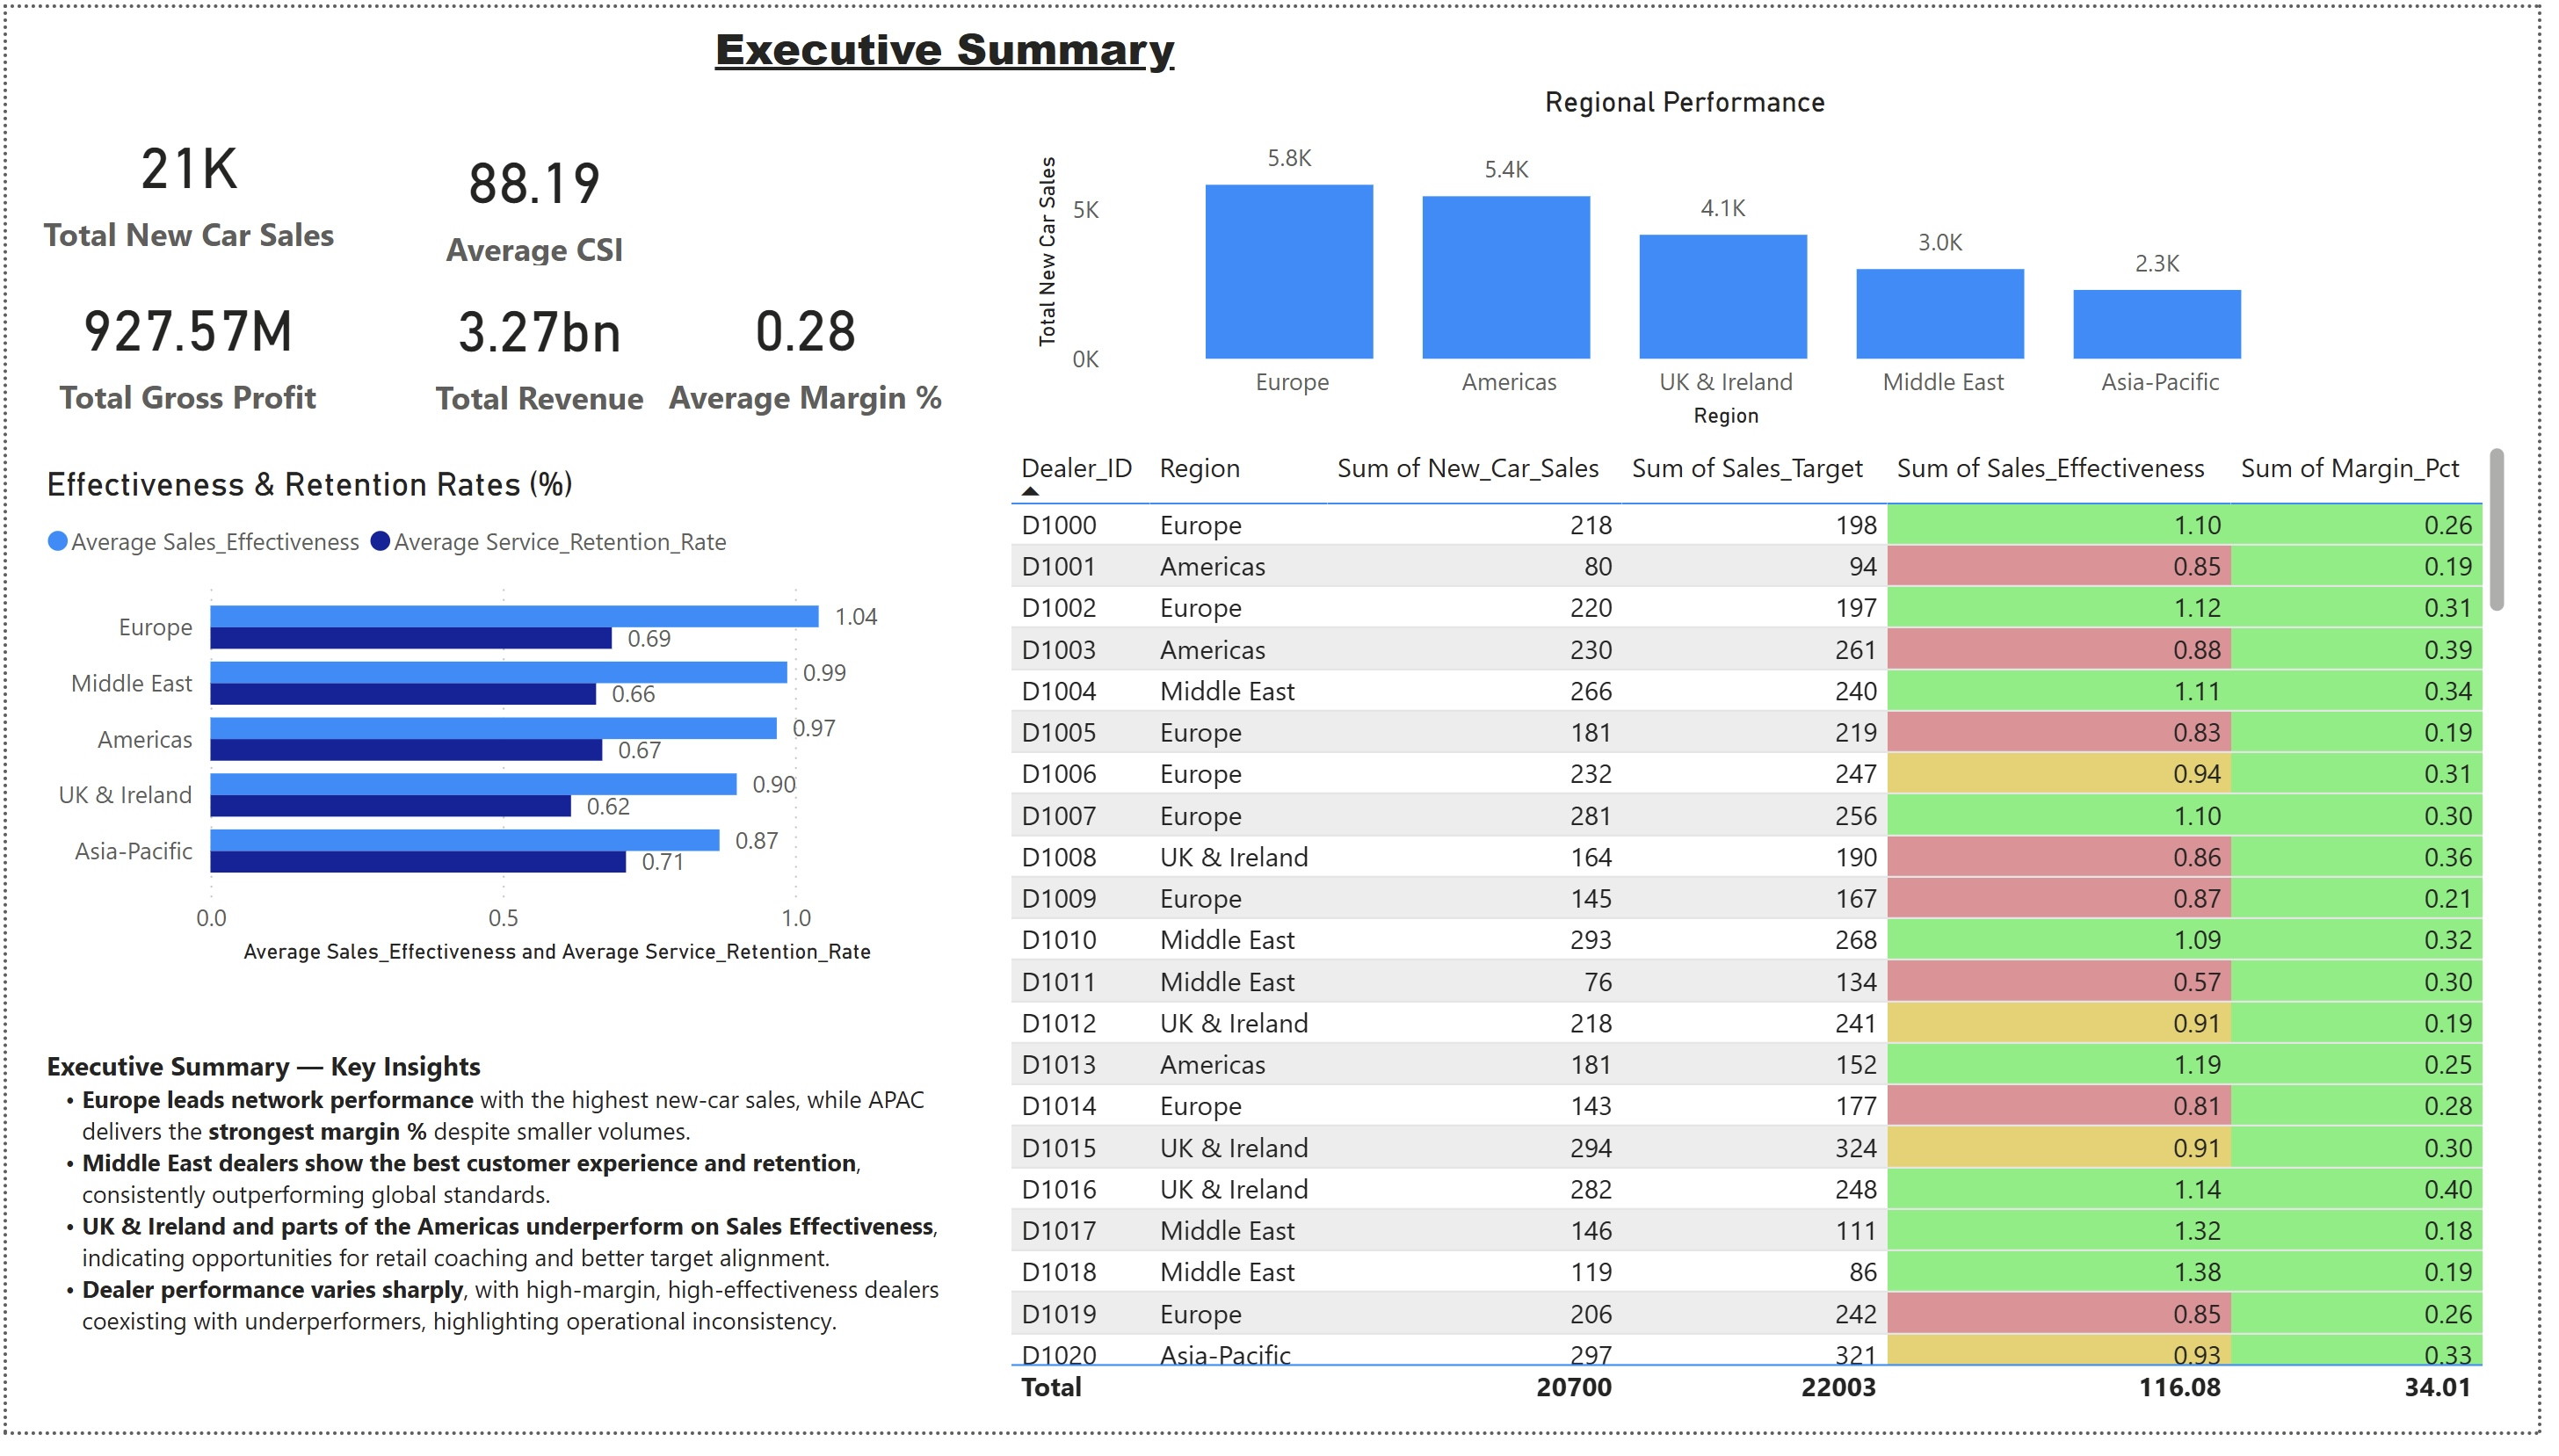

The dashboard page shown, as its layout file describes it:
{"tool":"powerbi","page":{"name":"Executive Summary","canvas":[1280,720],"ordinal":0},"visuals":[{"type":"card","fields":{"Values":["dealer_kpis_luxury.Total New Car Sales"]},"box":[8,53,168,74],"z":0},{"type":"card","fields":{"Values":["dealer_kpis_luxury.Total Revenue"]},"box":[198,135,143,75],"z":1000},{"type":"card","fields":{"Values":["dealer_kpis_luxury.Total Gross Profit"]},"box":[15,135,153,74],"z":2000},{"type":"card","fields":{"Values":["dealer_kpis_luxury.Average Margin %"]},"box":[323,127,162,90],"z":3000},{"type":"card","fields":{"Values":["dealer_kpis_luxury.Average CSI"]},"box":[193,60,148,75],"z":4000},{"type":"clusteredColumnChart","title":"Regional Performance","fields":{"Category":["dealer_kpis_luxury.Region"],"Y":["dealer_kpis_luxury.Total New Car Sales"]},"box":[516,39,666,178],"z":5000},{"type":"clusteredBarChart","title":"Effectiveness & Retention Rates (%)","fields":{"Y":["dealer_kpis_luxury.Average Sales_Effectiveness","dealer_kpis_luxury.Average Service_Retention_Rate"],"Category":["dealer_kpis_luxury.Region"]},"box":[15,231,452,257],"z":6000},{"type":"tableEx","fields":{"Values":["dealer_kpis_luxury.Dealer_ID","dealer_kpis_luxury.Region","Sum(dealer_kpis_luxury.New_Car_Sales)","Sum(dealer_kpis_luxury.Sales_Target)","Sum(dealer_kpis_luxury.Sales_Effectiveness)","Sum(dealer_kpis_luxury.Margin_Pct)"]},"box":[501.9,217.2,767.6,494.5],"z":7000},{"type":"textbox","box":[15,521,479,199],"z":8000},{"type":"textbox","box":[353,0,300,51],"z":8001}]}

Visuals, with their boxes in screenshot pixels (x1, y1, x2, y2), scaled from the page's 1280x720 canvas onto the 2559x1456 screenshot:
card - dealer_kpis_luxury.Total New Car Sales: [16, 107, 352, 257]
card - dealer_kpis_luxury.Total Revenue: [395, 273, 682, 424]
card - dealer_kpis_luxury.Total Gross Profit: [30, 273, 336, 423]
card - dealer_kpis_luxury.Average Margin %: [646, 257, 969, 438]
card - dealer_kpis_luxury.Average CSI: [386, 121, 682, 273]
"Regional Performance" clusteredColumnChart: [1032, 79, 2363, 438]
"Effectiveness & Retention Rates (%)" clusteredBarChart: [30, 467, 933, 987]
tableEx - dealer_kpis_luxury.Dealer_ID x dealer_kpis_luxury.Region: [1004, 439, 2538, 1439]
textbox: [30, 1054, 988, 1455]
textbox: [706, 0, 1306, 103]
